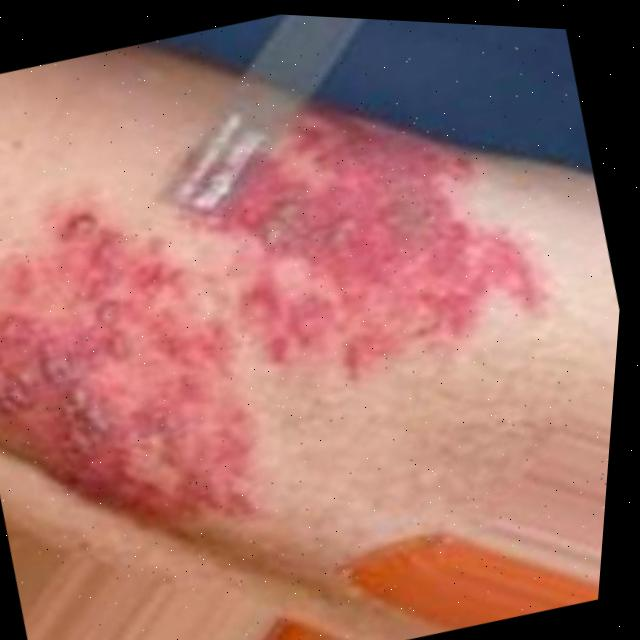Shingles: (0, 205, 278, 555), (233, 102, 560, 394)
